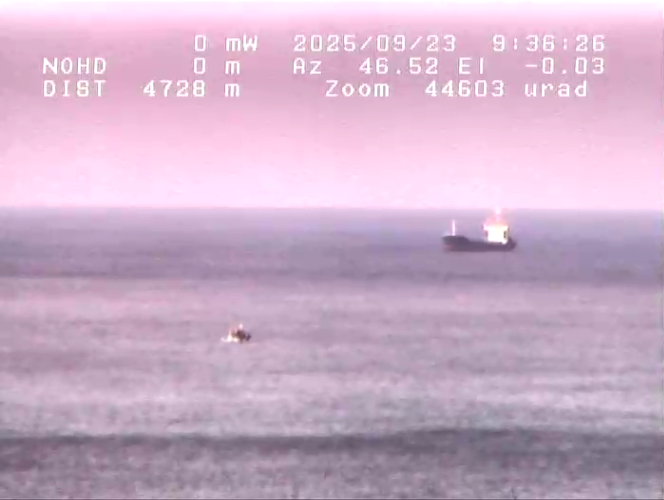TANKER: (431, 202, 522, 264)
TUGS: (213, 320, 258, 344)
